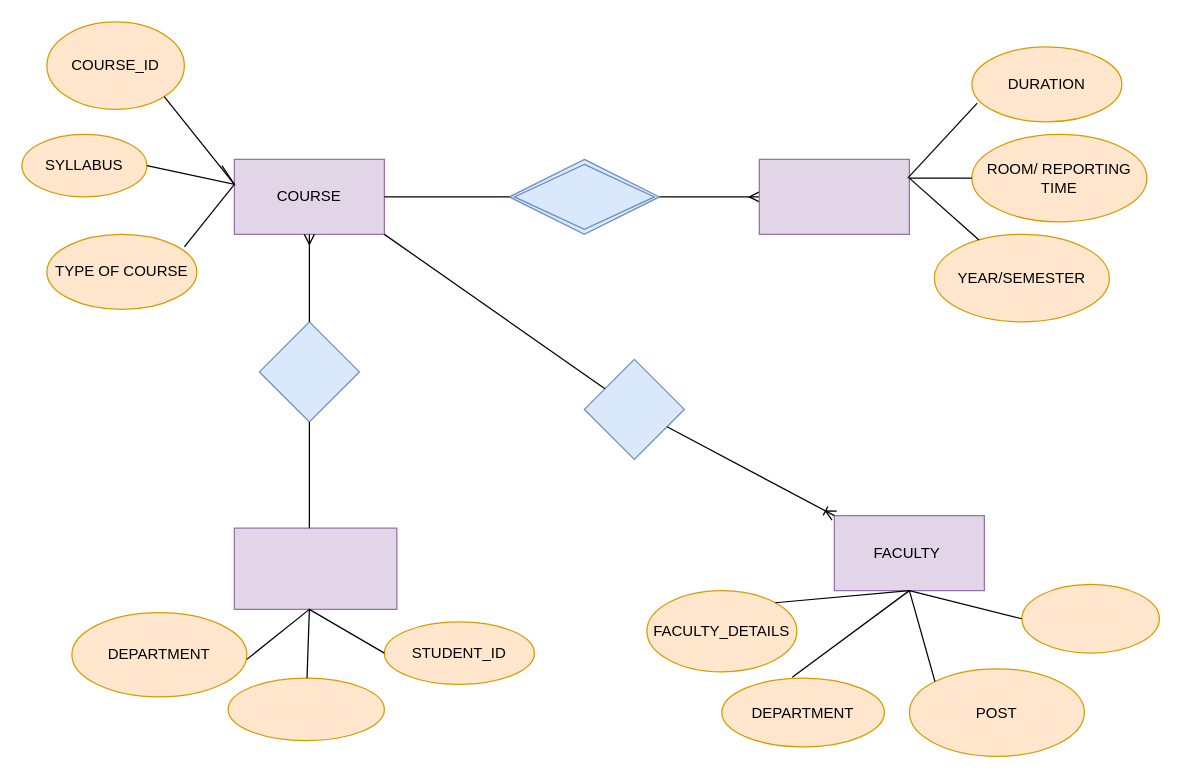
The diagram is 1181 pixels wide and 779 high, and some of its shapes have lost their labels. Each missing label, with the centre of its shape:
"CONTAINS" goes at (x=583, y=196).
"COURSE OFFERING" goes at (x=833, y=196).
"ENROLL" goes at (x=308, y=371).
"FACULTY_ID" goes at (x=1090, y=618).
"STUDENT" goes at (x=315, y=568).
"STUDENT_DETAILS" goes at (x=305, y=709).
"TAUGHT BY" goes at (x=633, y=408).
